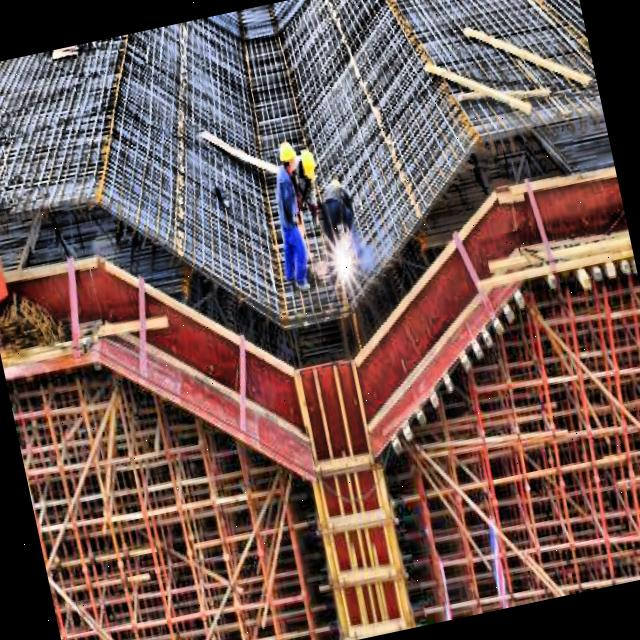helmet: (292, 141, 322, 191), (274, 134, 302, 179)
